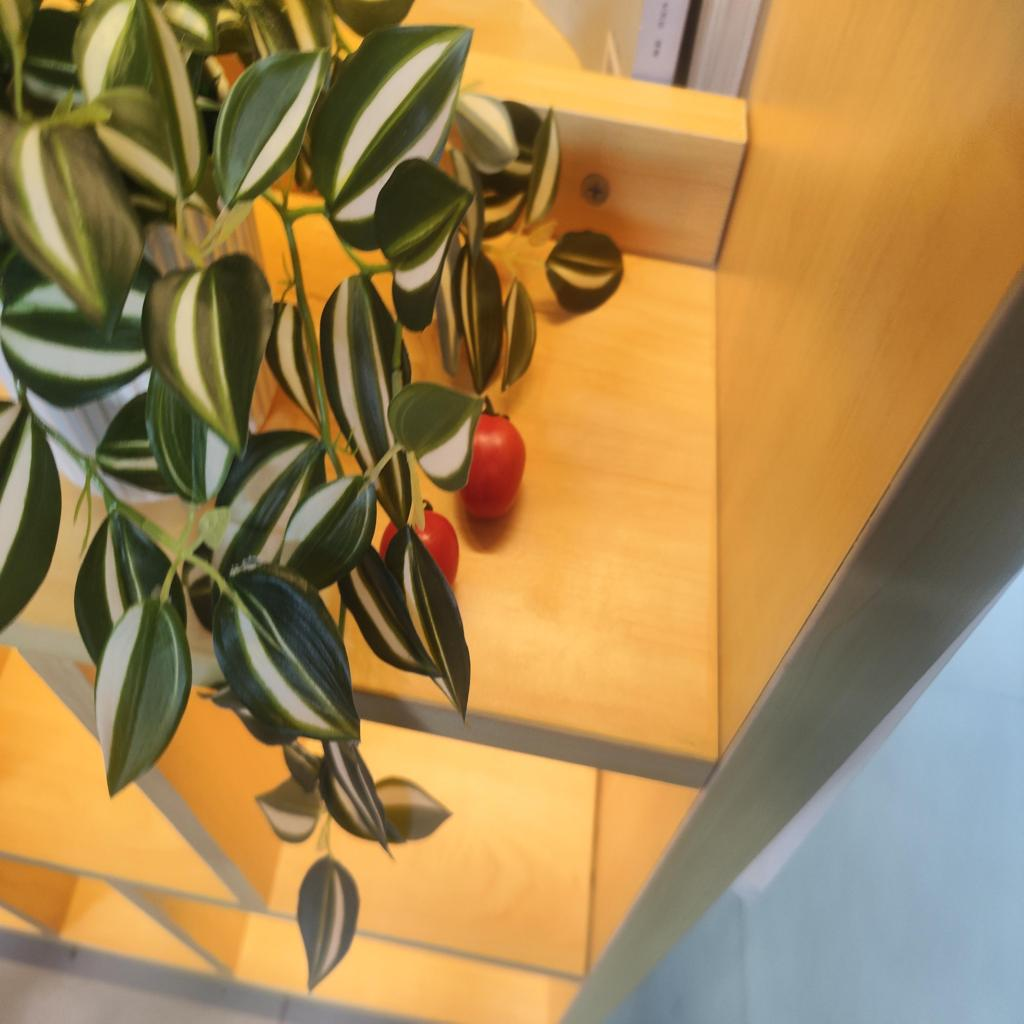tomato: (453, 406, 530, 526), (382, 501, 464, 597)
